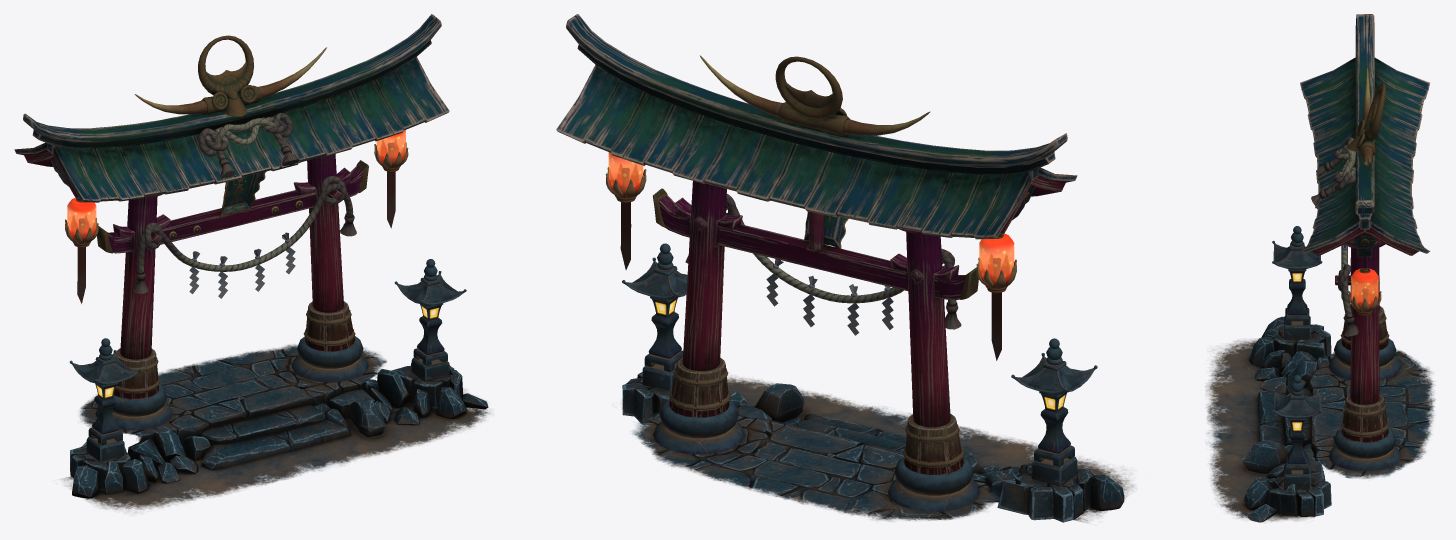
Rendered from torii-draco.glb.
3 views of the same model, side by side, from view 1: azimuth 30°, elevation 25°; view 2: azimuth 150°, elevation 25°; view 3: azimuth 270°, elevation 25° (orthographic). The views are drawn at different scales.
Visible parts, largest first — view 1: Object118_01 - Default_0, Object084_02 - Default_0, Object120_01 - Default_0, Plane003_02 - Default_0, Object255_01 - Default_0, Object262_01 - Default_0, Cylinder003_01 - Default_0, Line008, Object172_02 - Default_0, Object273_02 - Default_0, Object189_02 - Default_0, Object274_01 - Default_0 (+4 smaller); view 2: Object118_01 - Default_0, Object120_01 - Default_0, Object084_02 - Default_0, Object255_01 - Default_0, Object262_01 - Default_0, Cylinder003_01 - Default_0, Plane003_02 - Default_0, Object273_02 - Default_0, Object274_01 - Default_0, Line008, Object275_01 - Default_0, Cylinder021 (+1 smaller); view 3: Object118_01 - Default_0, Object084_02 - Default_0, Plane003_02 - Default_0, Object120_01 - Default_0, Object262_01 - Default_0, Object255_01 - Default_0, Object273_02 - Default_0, Object275_01 - Default_0, Cylinder003_01 - Default_0, Object172_02 - Default_0, Line008, Object189_02 - Default_0 (+3 smaller).
Boxes of the visible parts, box(x1,y1,x2,y2) form: Object118_01 - Default_0: box(14, 57, 449, 399); Object084_02 - Default_0: box(72, 344, 488, 498); Object120_01 - Default_0: box(23, 14, 441, 359); Plane003_02 - Default_0: box(61, 389, 490, 512); Object255_01 - Default_0: box(23, 35, 368, 429); Object262_01 - Default_0: box(69, 259, 466, 461); Cylinder003_01 - Default_0: box(32, 40, 431, 253); Line008: box(54, 85, 353, 272); Object172_02 - Default_0: box(137, 369, 432, 482); Object273_02 - Default_0: box(70, 363, 463, 490); Object189_02 - Default_0: box(104, 380, 390, 494); Object274_01 - Default_0: box(65, 198, 98, 303); Object118_01 - Default_0: box(556, 64, 1077, 474); Object120_01 - Default_0: box(566, 14, 1067, 427); Object084_02 - Default_0: box(632, 383, 1124, 521); Object255_01 - Default_0: box(653, 56, 1066, 511); Object262_01 - Default_0: box(622, 243, 1097, 486); Cylinder003_01 - Default_0: box(577, 45, 1055, 299); Plane003_02 - Default_0: box(727, 376, 1133, 522); Object273_02 - Default_0: box(622, 372, 1092, 522); Object274_01 - Default_0: box(976, 233, 1016, 360); Line008: box(726, 108, 1029, 304); Object275_01 - Default_0: box(605, 152, 646, 269); Cylinder021: box(694, 102, 943, 282); Object118_01 - Default_0: box(1300, 57, 1429, 442); Object084_02 - Default_0: box(1242, 316, 1435, 522); Plane003_02 - Default_0: box(1205, 338, 1314, 521); Object120_01 - Default_0: box(1350, 14, 1379, 404); Object262_01 - Default_0: box(1272, 226, 1322, 489); Object255_01 - Default_0: box(1311, 83, 1418, 471); Object273_02 - Default_0: box(1268, 324, 1331, 516); Object275_01 - Default_0: box(1348, 257, 1381, 368); Cylinder003_01 - Default_0: box(1311, 68, 1376, 291); Object172_02 - Default_0: box(1259, 350, 1325, 487); Line008: box(1334, 120, 1385, 316); Object189_02 - Default_0: box(1264, 330, 1316, 478).
Bounding box in the file's own units: 161 × 136 × 86.56.
2 materials, 2 textured.
